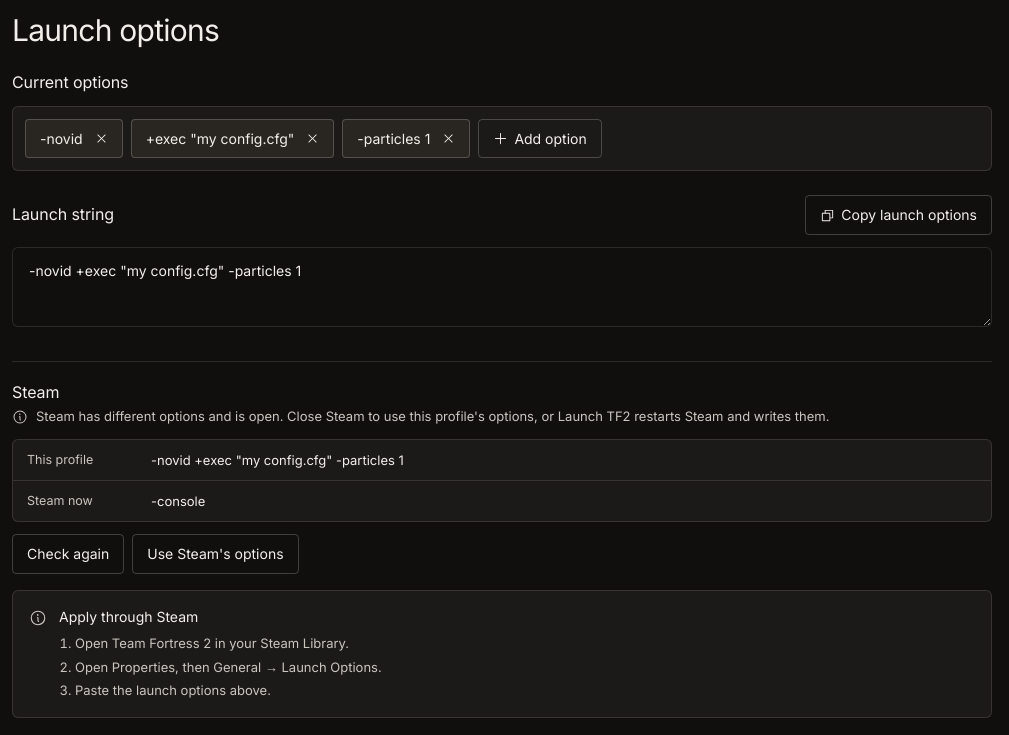
offers only a fresh check while Steam is open, because execs never writes then
This screenshot has width=1009, height=735.
Step 1. Click the button with test id "launch-steam-retry" → coordinates (68, 554), box [12, 534, 124, 574]
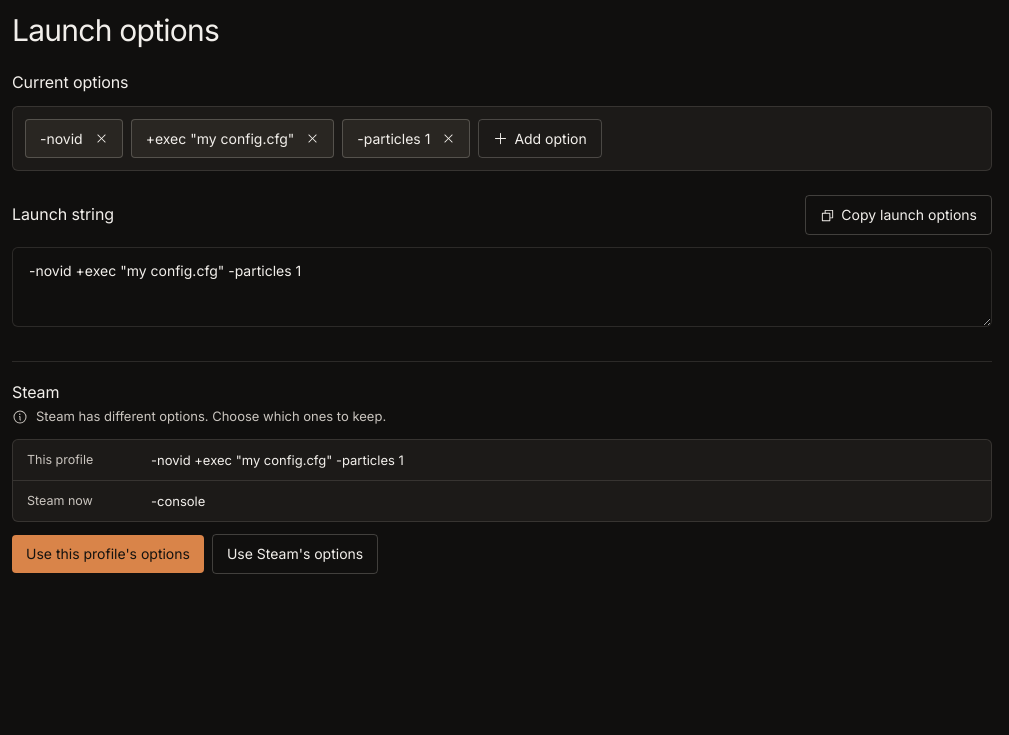
Expected: the element with test id "launch-steam-compare" shows "-console", [151, 493, 205, 509]
Result: the button with test id "launch-steam-retry" reads "Use this profile's options" at [12, 535, 204, 573]
